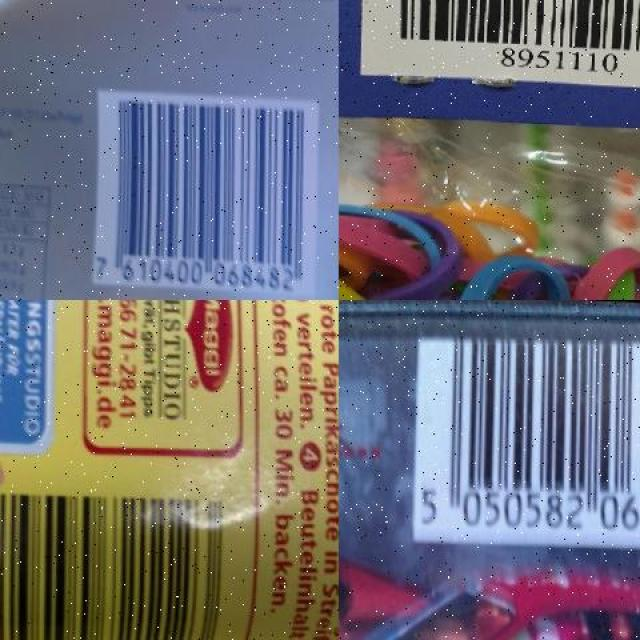Barcode: (414, 329, 640, 543), (96, 85, 320, 291), (0, 481, 236, 640), (388, 0, 640, 71)
